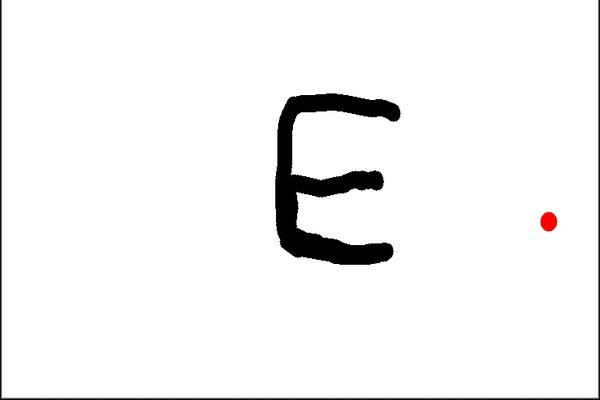E: (267, 86, 408, 272)
